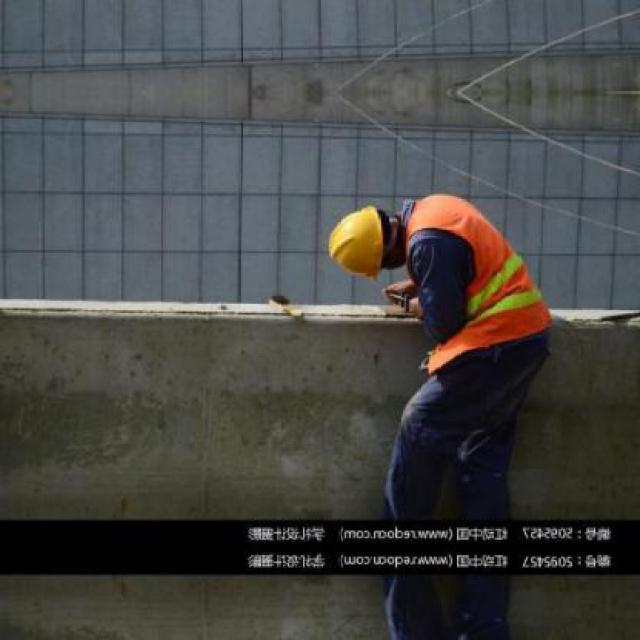Reflective-Jacket: (397, 188, 565, 375)
Safety-Helmet: (318, 198, 396, 294)
